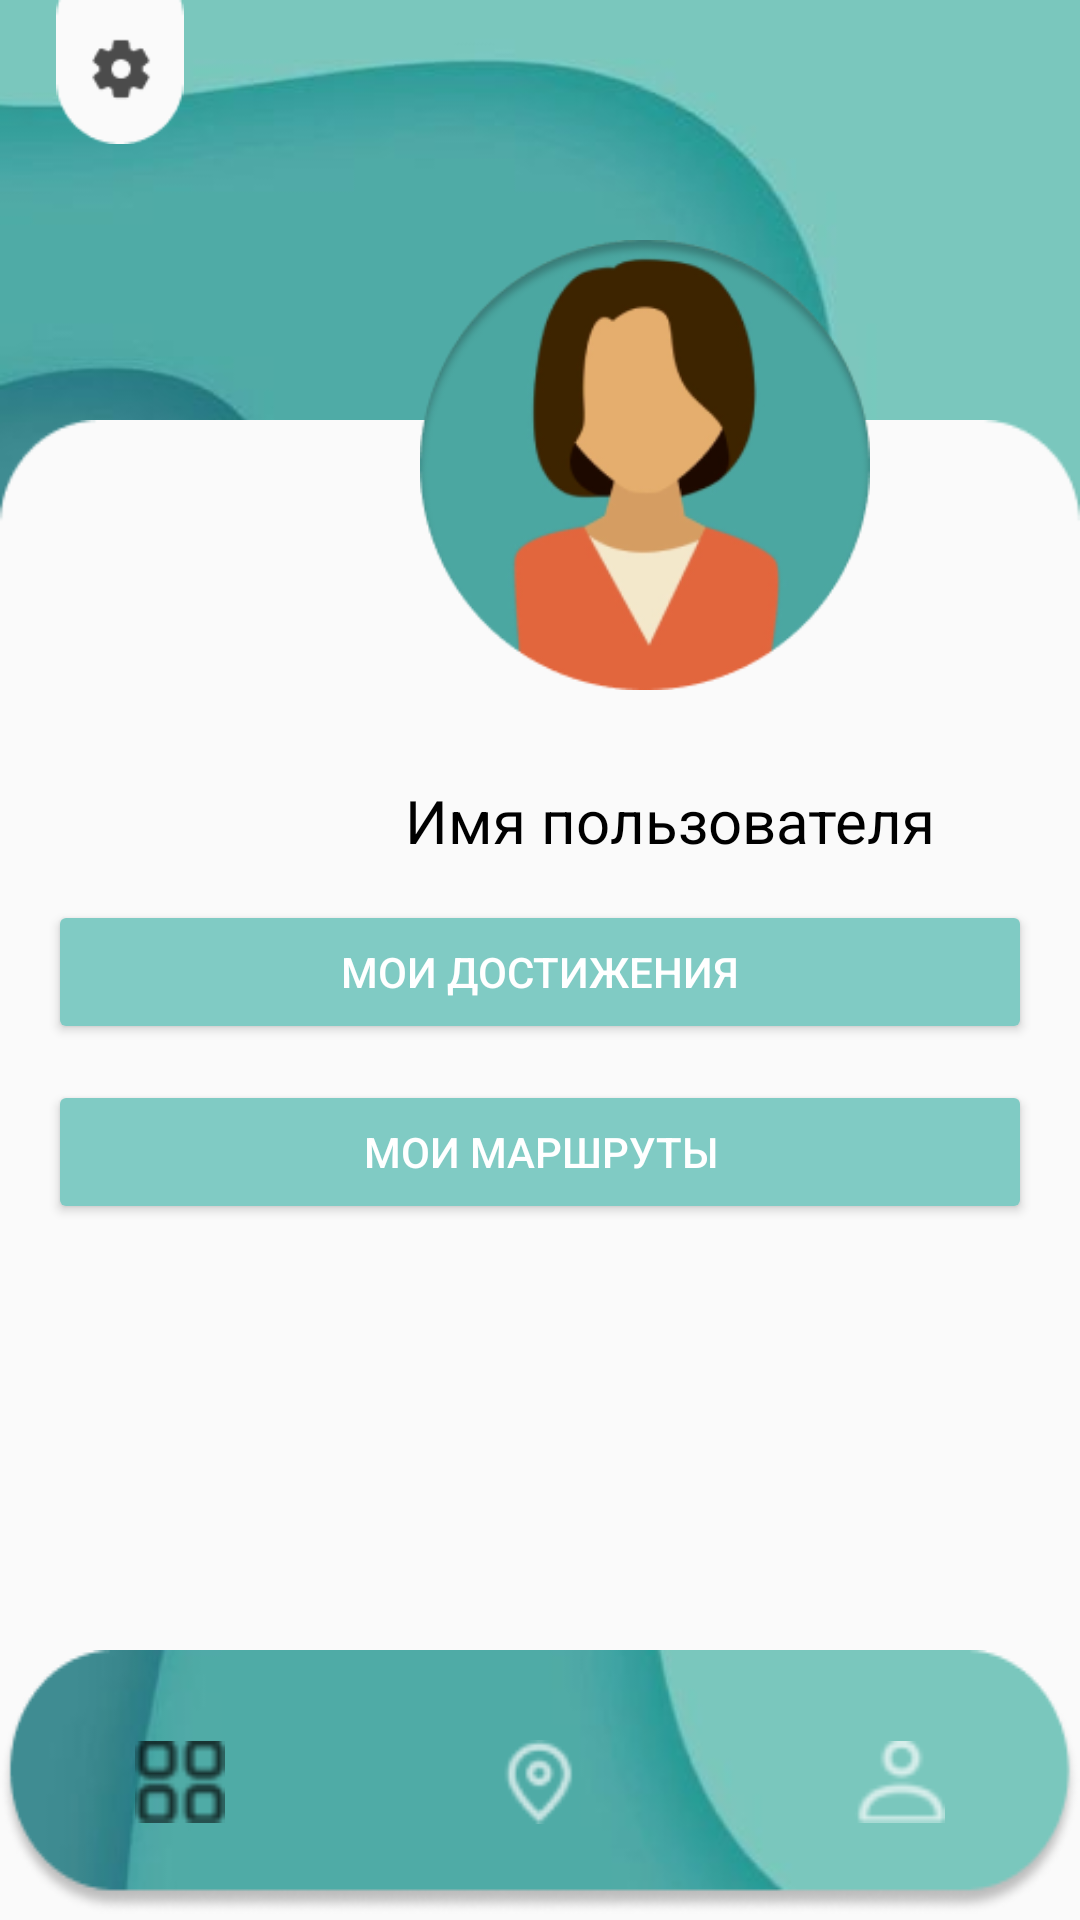

Named icons in this screenshot (1080w x 1920h) and their centers, [x,y]:
Настройки: [120,72]
